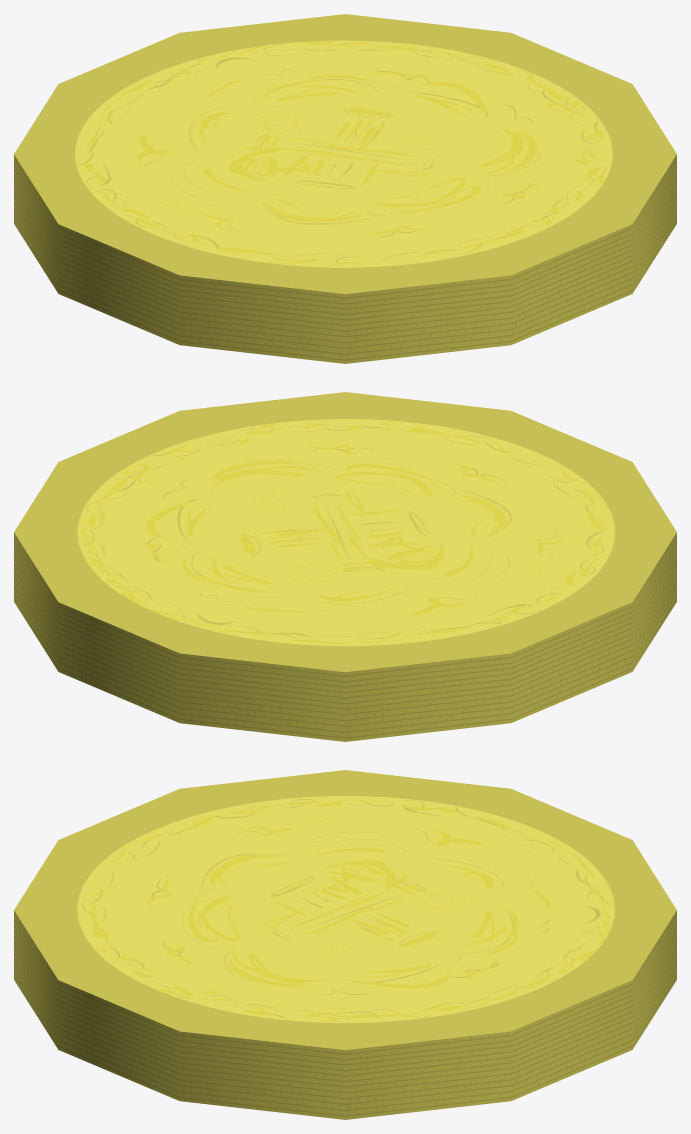
Rendered from CoinSingle.fbx.
The picture shows the model from 3 angles, top to bottom: view 1: azimuth 30°, elevation 25°; view 2: azimuth 150°, elevation 25°; view 3: azimuth 270°, elevation 25°; orthographic projection.
Visible parts, largest first — view 1: Cylinder019; view 2: Cylinder019; view 3: Cylinder019.
Boxes of the visible parts, x1,y1,x2,y2 form: Cylinder019: (14,14,676,363); Cylinder019: (14,392,676,741); Cylinder019: (14,770,676,1119).
Bounding box in the file's own units: 8.53 × 8.53 × 0.9904.
Materials: 2 (2 with a texture image).
